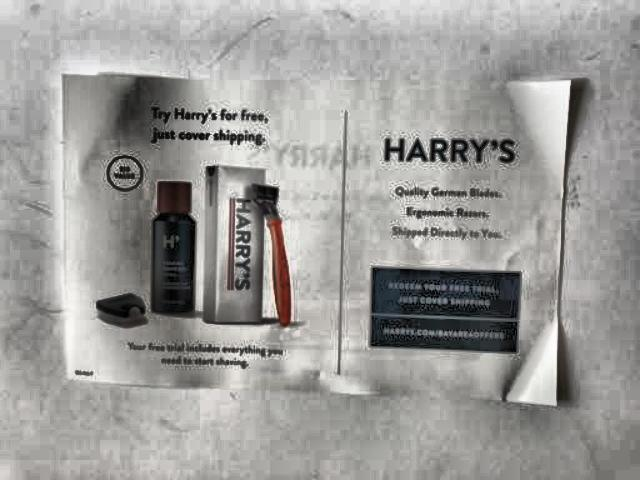Paper: (48, 61, 593, 426)
